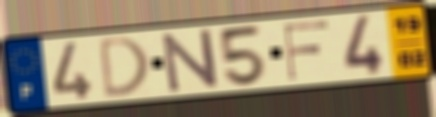4: (340, 13, 387, 78), (51, 39, 96, 103)
5: (217, 22, 271, 89)
D: (97, 33, 151, 101)
F: (282, 18, 332, 83)
N: (159, 27, 222, 95)
